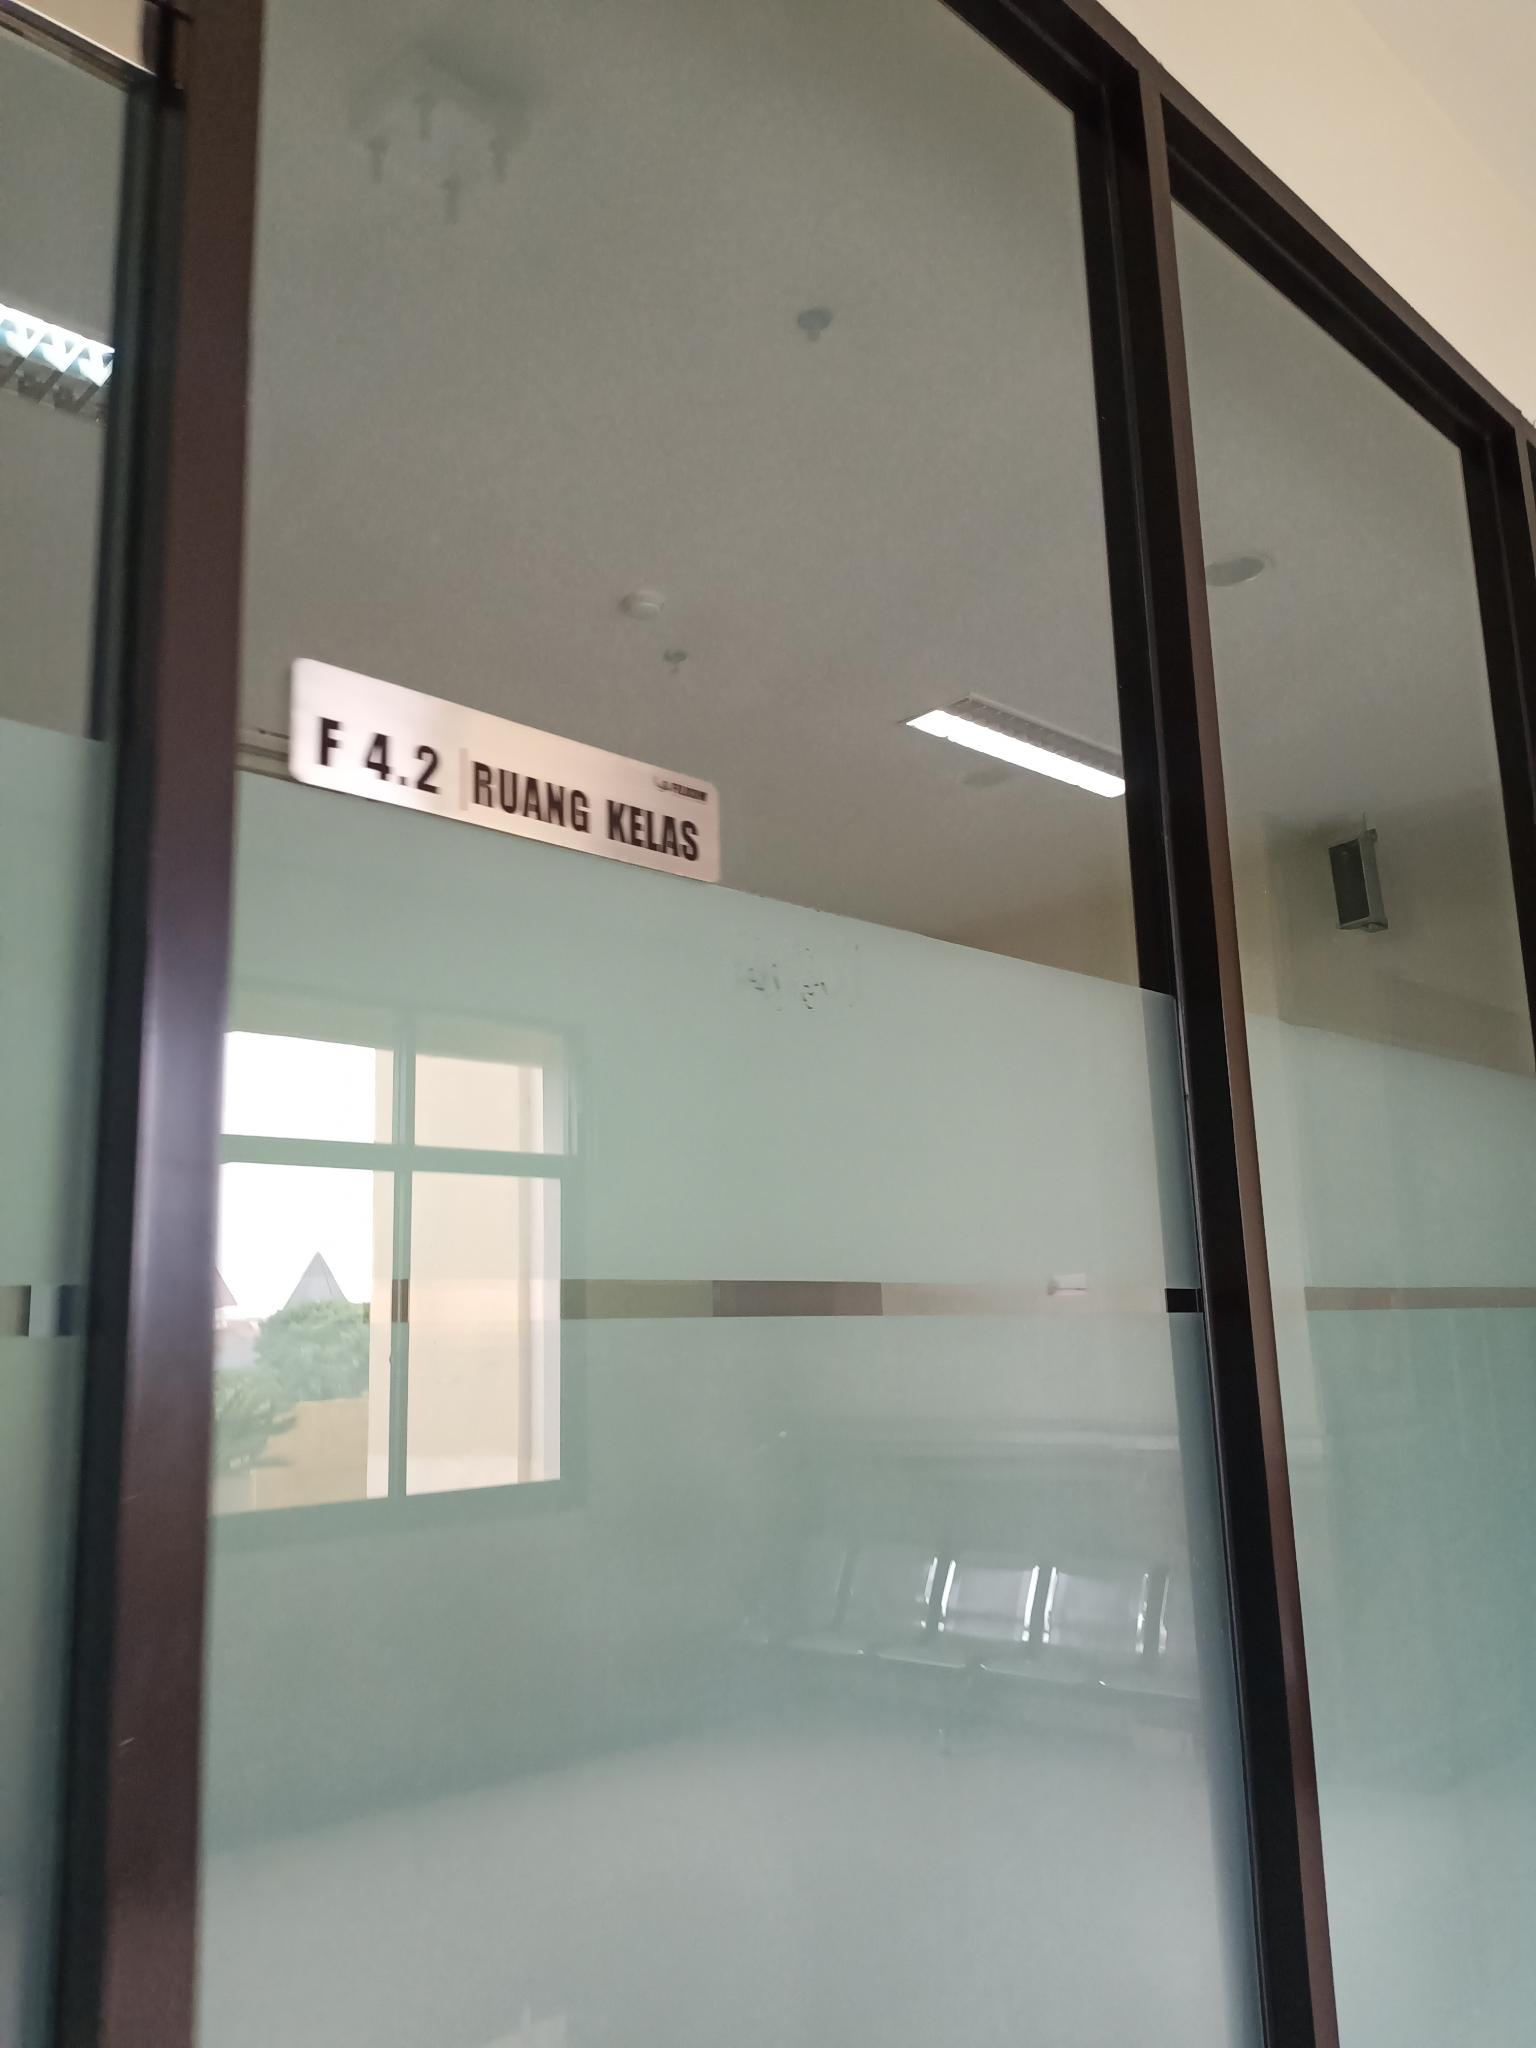plate: (289, 648, 720, 884)
